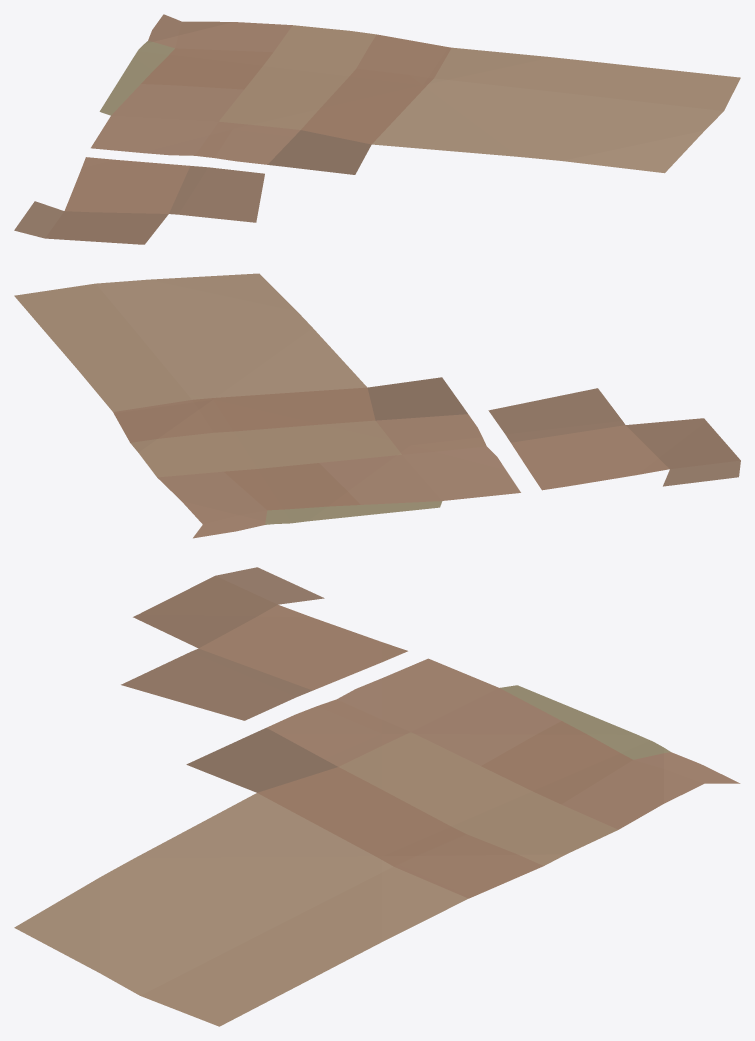
File: farm_10_14_soil.glb
The picture shows the model from 3 angles, top to bottom: view 1: azimuth 30°, elevation 25°; view 2: azimuth 150°, elevation 25°; view 3: azimuth 270°, elevation 25°; orthographic projection. The views are drawn at different scales.
Parts seen in each view (by area): view 1: geometry_0; view 2: geometry_0; view 3: geometry_0.
Part boxes in pixels (bbox=[...]): geometry_0: bbox=[14, 14, 740, 244]; geometry_0: bbox=[14, 273, 740, 538]; geometry_0: bbox=[14, 567, 740, 1026].
Size of the model in its own units: 300 by 4.56 by 206.
